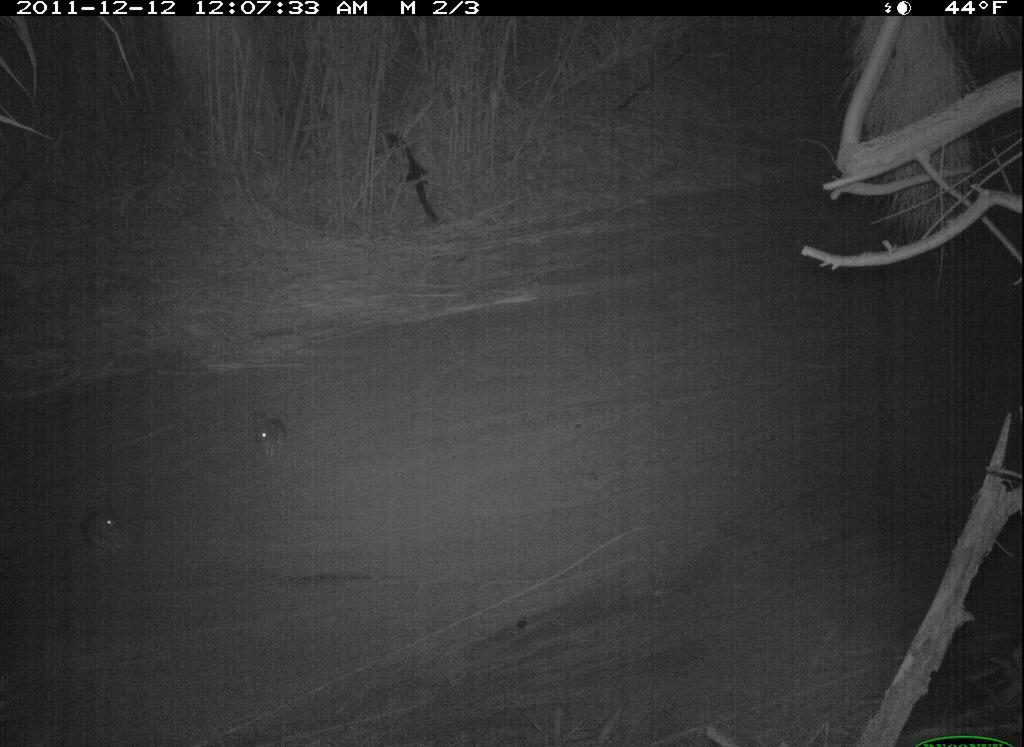rabbit: (245, 402, 297, 470)
